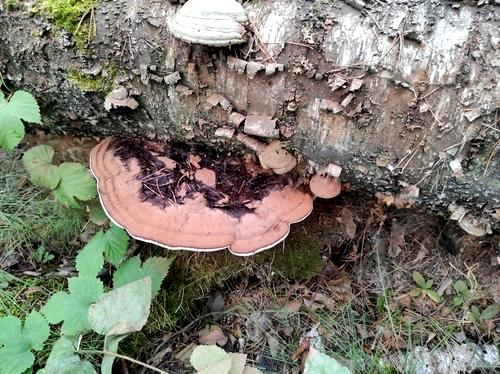Ganoderma - Fruit Body: (85, 132, 343, 258)
